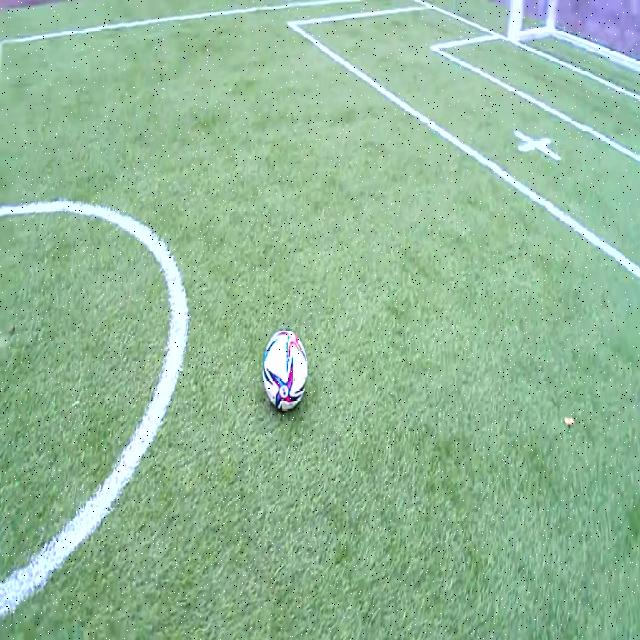ball: (262, 329, 309, 412)
